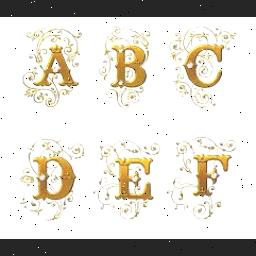a: (28, 38, 84, 100)
b: (102, 40, 154, 94)
c: (174, 42, 228, 90)
d: (28, 148, 80, 206)
e: (104, 146, 156, 206)
f: (188, 150, 244, 206)
